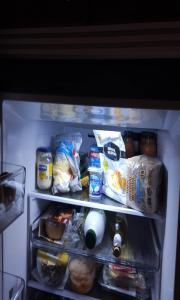Leche: (84, 208, 106, 250)
Queso: (92, 129, 126, 204), (52, 131, 82, 195)
Yogur: (86, 166, 103, 199)
